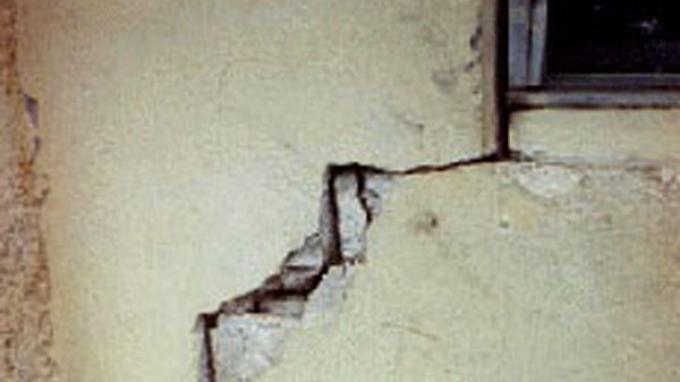spalling: (195, 153, 499, 381)
